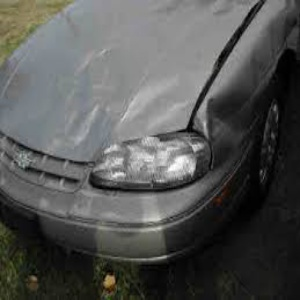bonnet: (26, 25, 196, 135)
